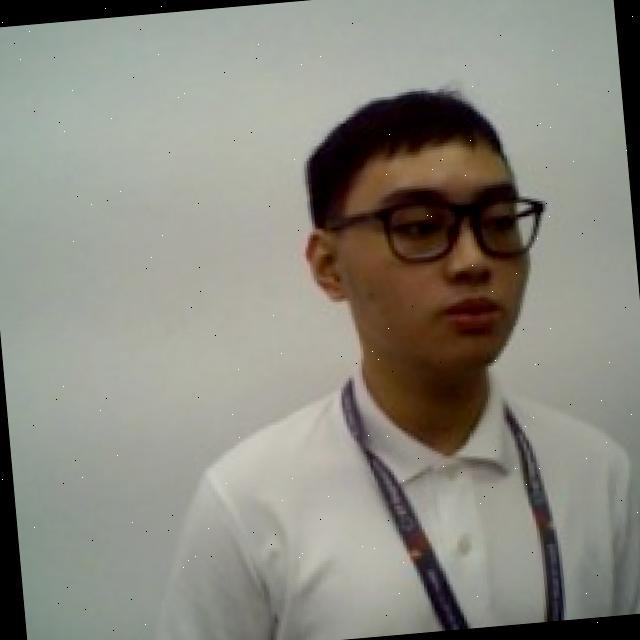no_gloves: (286, 72, 530, 222)
no_hairnet: (300, 215, 544, 386)
